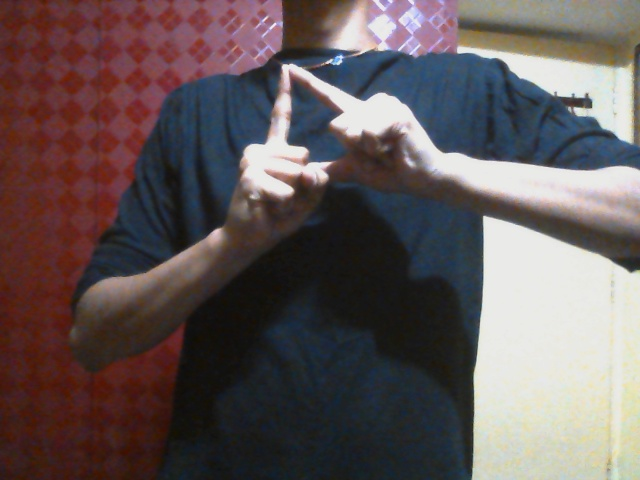D: (220, 60, 450, 261)
